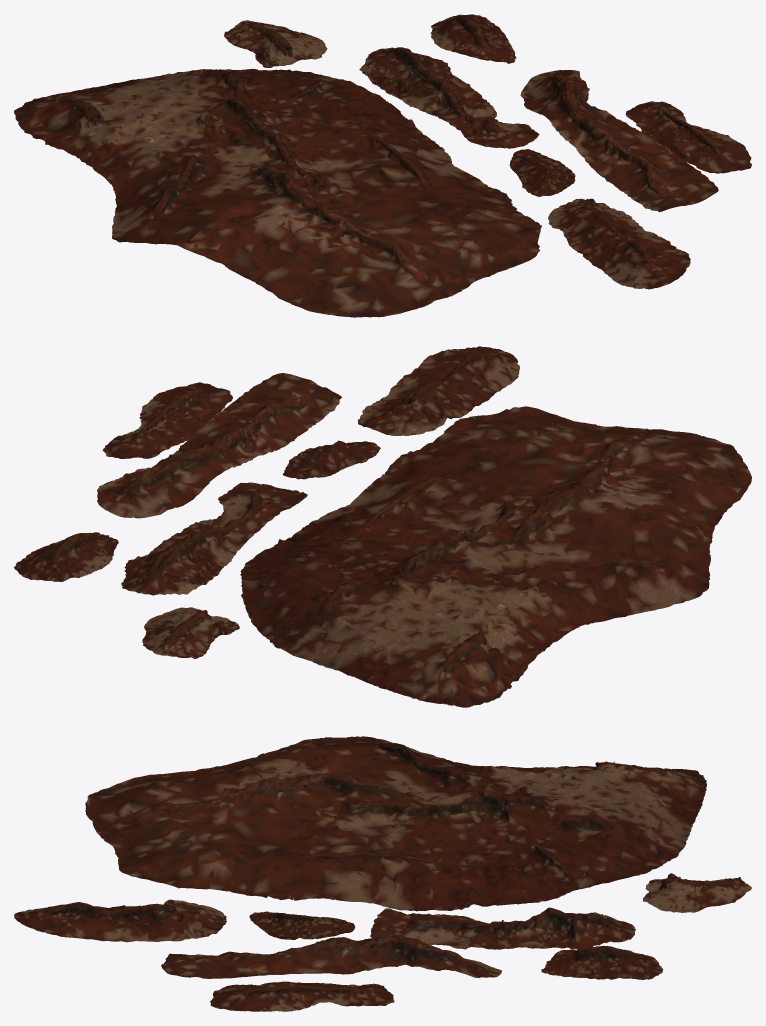
File: root_cluster_02.glb
3 views of the same model, one above another, from view 1: azimuth 30°, elevation 25°; view 2: azimuth 150°, elevation 25°; view 3: azimuth 270°, elevation 25° (orthographic). The views are drawn at different scales.
Parts seen in each view (by area): view 1: root_cluster_02_a, root_cluster_02_f, root_cluster_02_d, root_cluster_02_b, root_cluster_02_g, root_cluster_02_e, root_cluster_02_h, root_cluster_02_c; view 2: root_cluster_02_a, root_cluster_02_f, root_cluster_02_d, root_cluster_02_b, root_cluster_02_g, root_cluster_02_h, root_cluster_02_e, root_cluster_02_c; view 3: root_cluster_02_a, root_cluster_02_f, root_cluster_02_d, root_cluster_02_b, root_cluster_02_g, root_cluster_02_h, root_cluster_02_e, root_cluster_02_c.
Boxes of the visible parts, x1,y1,x2,y2 form: root_cluster_02_a: (14,68,541,317); root_cluster_02_f: (520,70,718,212); root_cluster_02_d: (359,47,539,148); root_cluster_02_b: (548,198,690,289); root_cluster_02_g: (625,101,751,173); root_cluster_02_e: (224,20,327,67); root_cluster_02_h: (430,14,516,63); root_cluster_02_c: (509,149,575,196); root_cluster_02_a: (240,406,751,707); root_cluster_02_f: (97,373,341,518); root_cluster_02_d: (121,482,307,595); root_cluster_02_b: (357,346,519,435); root_cluster_02_g: (102,382,232,458); root_cluster_02_h: (14,532,118,581); root_cluster_02_e: (142,607,239,658); root_cluster_02_c: (283,440,380,479); root_cluster_02_a: (85,736,706,911); root_cluster_02_f: (161,934,501,978); root_cluster_02_d: (370,907,635,949); root_cluster_02_b: (14,899,226,942); root_cluster_02_g: (210,981,394,1011); root_cluster_02_h: (541,945,663,979); root_cluster_02_e: (643,873,751,912); root_cluster_02_c: (249,911,355,939).
Bounding box in the file's own units: 2.38 × 0.1981 × 2.71.
Materials: 1 (1 with a texture image).
